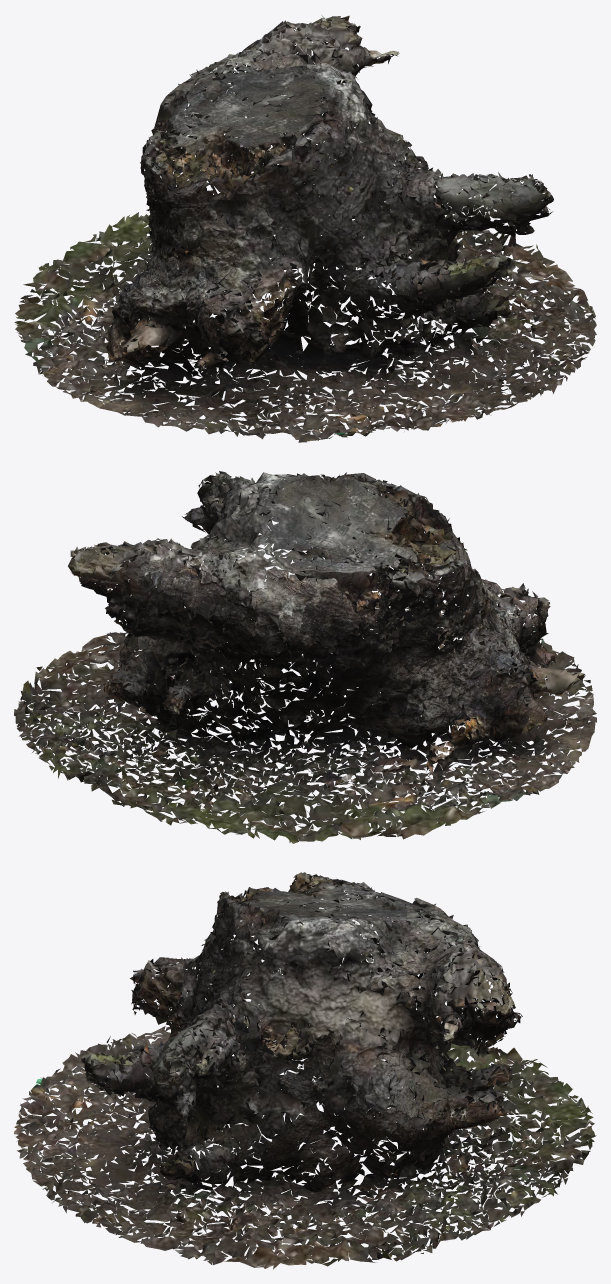
File: arbo_tree_stump_root___photogramm.glb
3 views of the same model, one above another, from view 1: azimuth 30°, elevation 25°; view 2: azimuth 150°, elevation 25°; view 3: azimuth 270°, elevation 25° (orthographic).
Visible parts, largest first — view 1: Object_2; view 2: Object_2; view 3: Object_2.
Boxes of the visible parts, x1,y1,x2,y2 form: Object_2: [14, 15, 596, 442]; Object_2: [14, 471, 596, 843]; Object_2: [14, 872, 596, 1269].
Size of the model in its own units: 1.2 by 0.5614 by 1.2.
4 materials, 4 textured.
